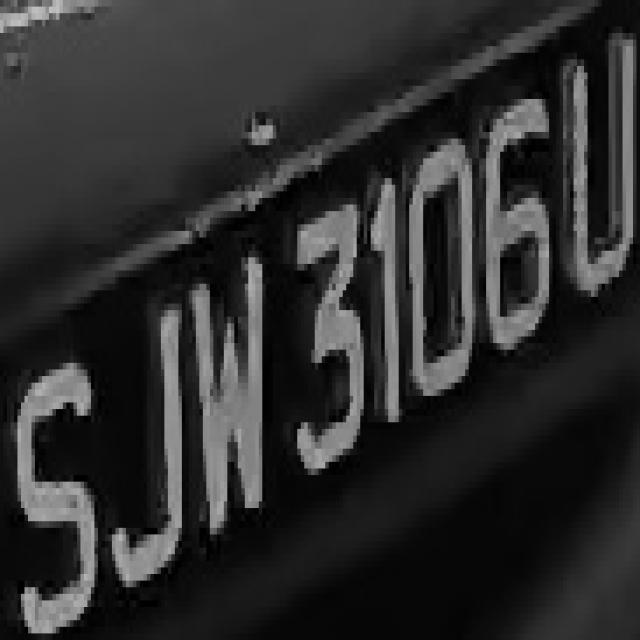0: (406, 132, 482, 422)
1: (356, 132, 406, 422)
3: (283, 178, 364, 488)
6: (476, 105, 549, 363)
J: (105, 264, 182, 594)
S: (17, 336, 112, 627)
U: (552, 32, 640, 336)
W: (182, 224, 262, 548)
